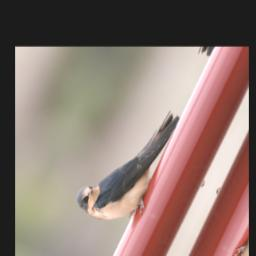Swallow: (69, 89, 193, 237)
